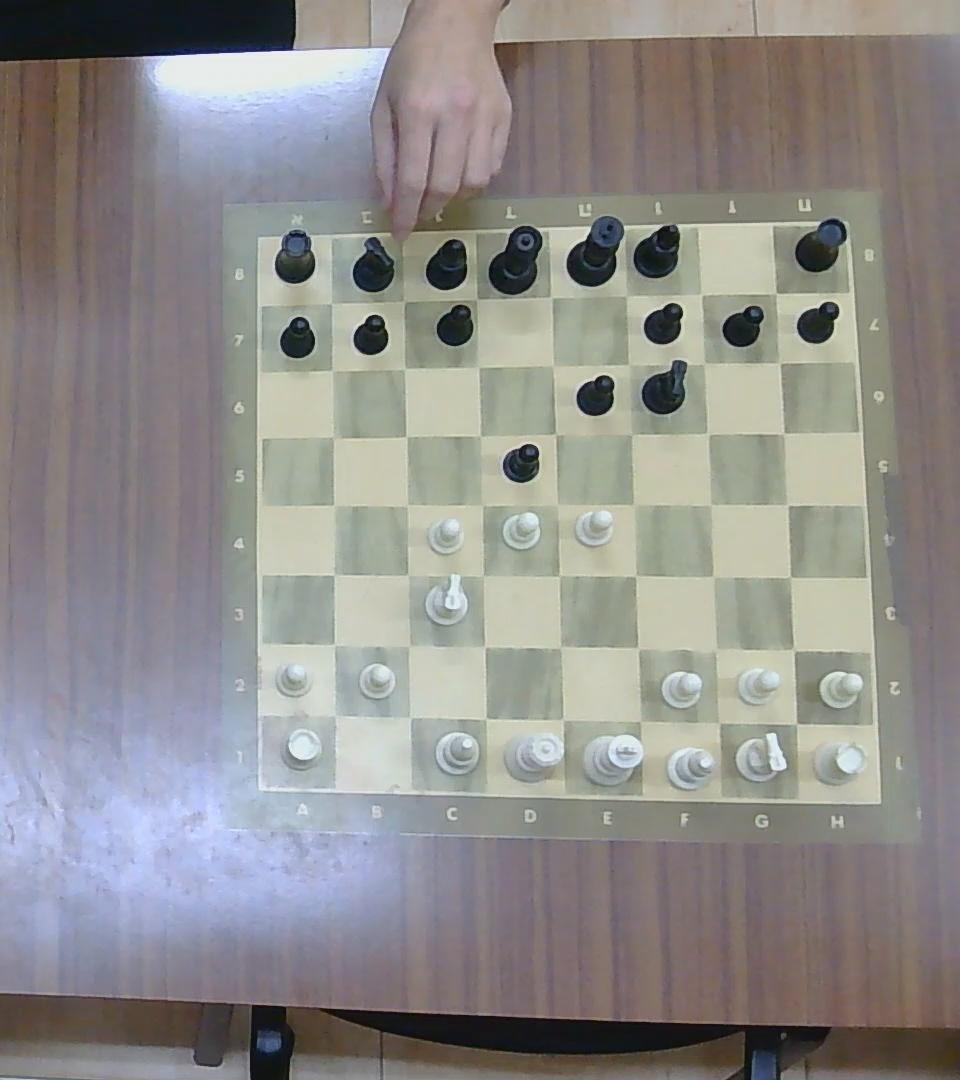xcorner: (778, 705, 813, 739), (620, 631, 653, 664), (623, 702, 656, 735), (546, 701, 578, 735), (702, 705, 734, 738), (543, 630, 575, 662), (468, 630, 500, 662), (470, 701, 501, 733), (319, 699, 350, 731), (393, 701, 424, 732), (774, 561, 805, 592), (698, 561, 728, 592), (699, 634, 730, 664), (777, 634, 808, 664), (393, 631, 423, 661), (319, 629, 349, 659), (621, 560, 650, 590), (544, 560, 573, 590), (467, 560, 496, 590), (393, 560, 422, 590), (460, 284, 490, 313), (772, 488, 801, 517), (616, 419, 645, 448), (320, 559, 348, 588), (695, 490, 724, 518), (543, 490, 572, 518), (693, 419, 722, 447), (467, 490, 495, 518), (320, 490, 348, 518), (620, 489, 649, 516), (537, 283, 566, 310), (393, 489, 421, 516), (317, 288, 345, 315), (770, 418, 798, 445), (612, 281, 640, 308), (464, 352, 492, 379), (318, 421, 345, 448), (318, 356, 345, 382), (389, 287, 416, 313), (393, 422, 419, 448), (540, 351, 566, 377), (542, 421, 569, 446), (616, 351, 641, 377), (467, 421, 492, 446), (390, 355, 415, 380), (763, 281, 789, 305), (691, 350, 715, 374), (690, 281, 714, 305), (767, 349, 791, 372)
